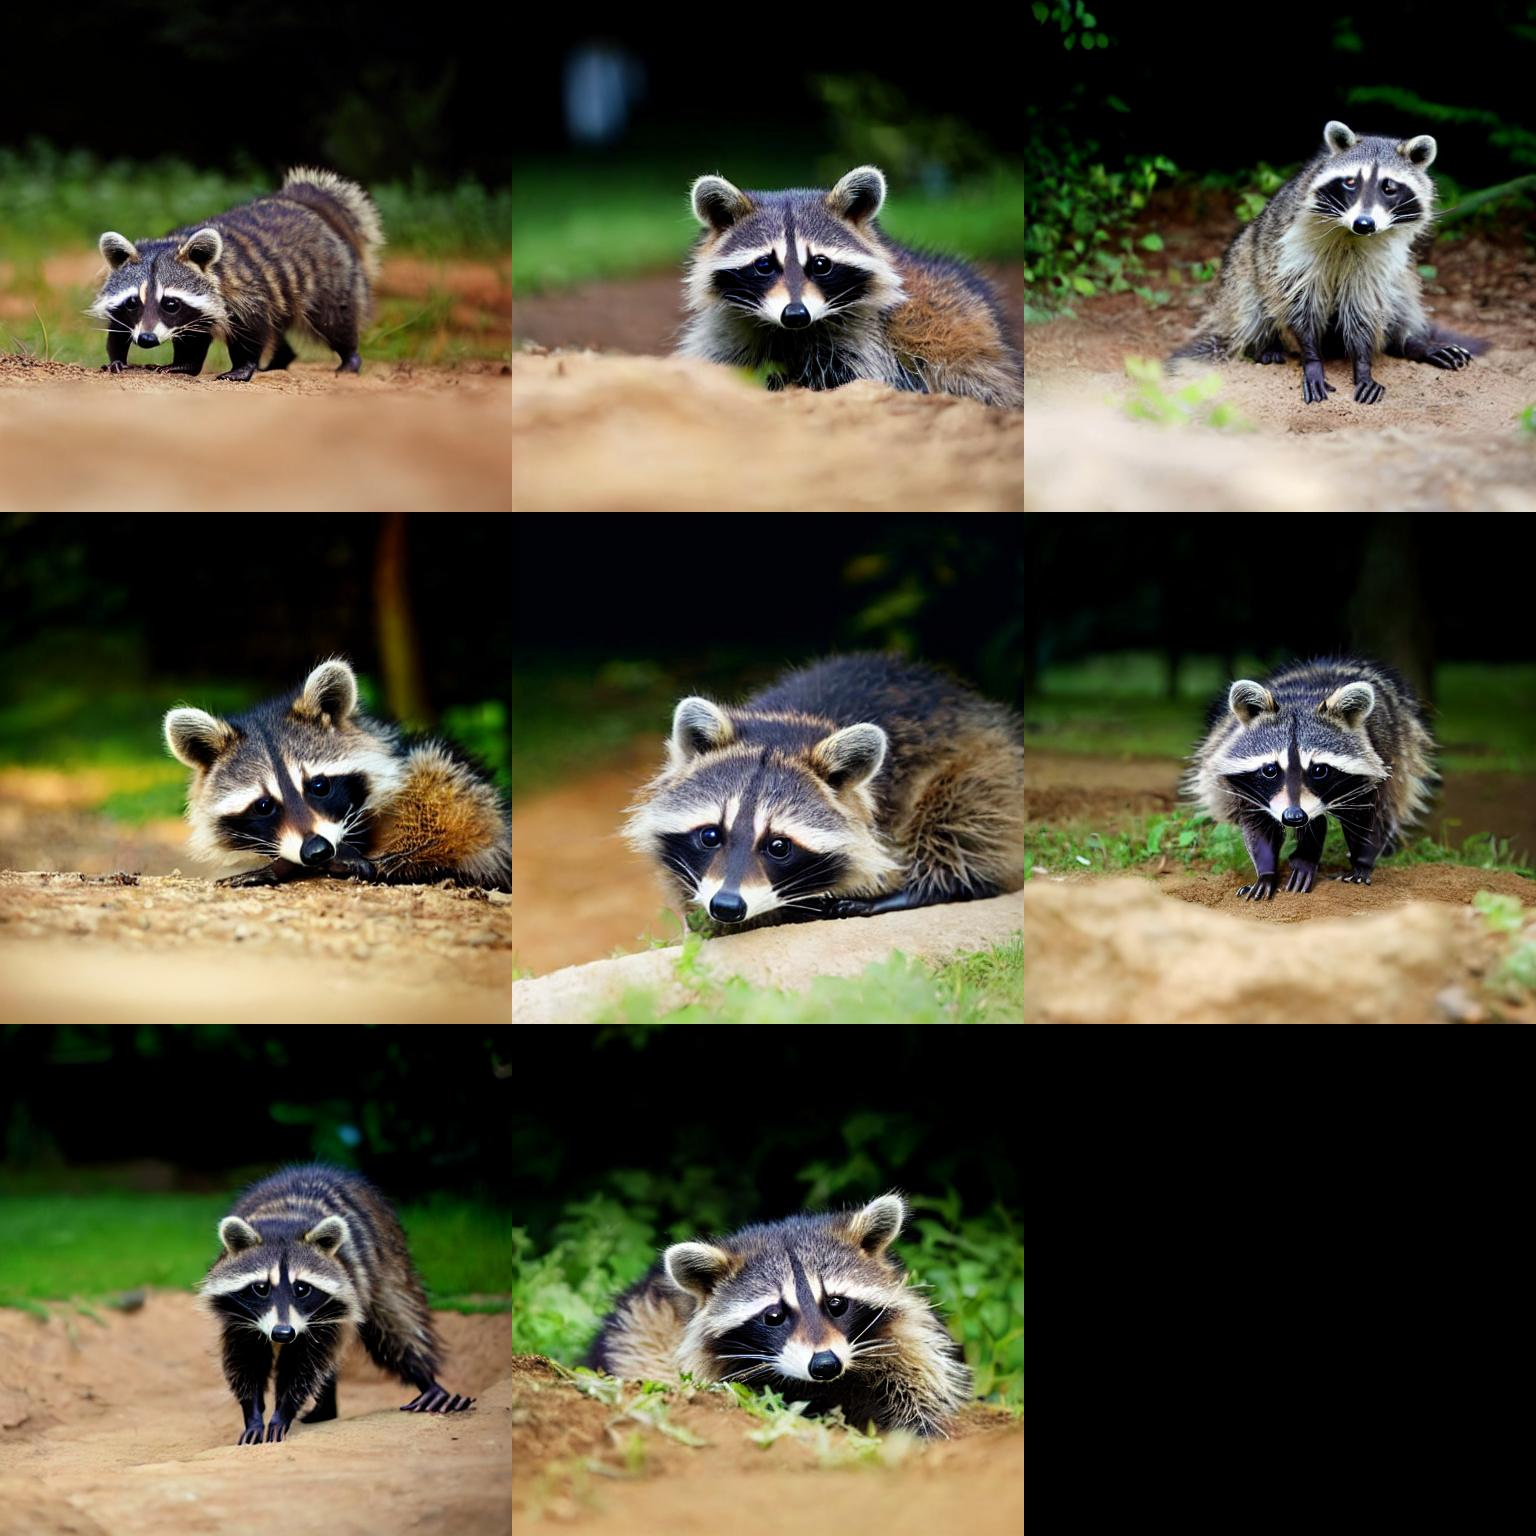raccoon: (608, 630, 1025, 937), (574, 1177, 982, 1456), (148, 636, 511, 903), (672, 156, 1024, 419), (80, 153, 394, 385), (1173, 110, 1449, 366), (1177, 650, 1447, 876), (194, 1152, 435, 1390)
